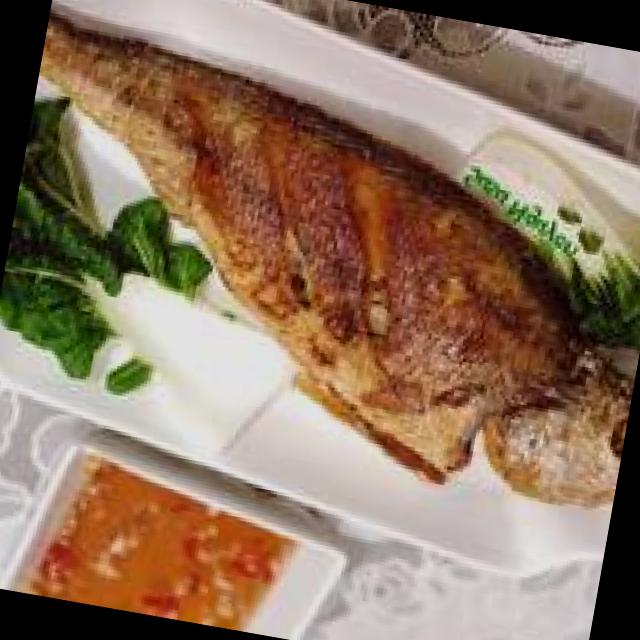ca chien: (38, 22, 630, 506)
nuoc mam: (25, 461, 290, 630)
